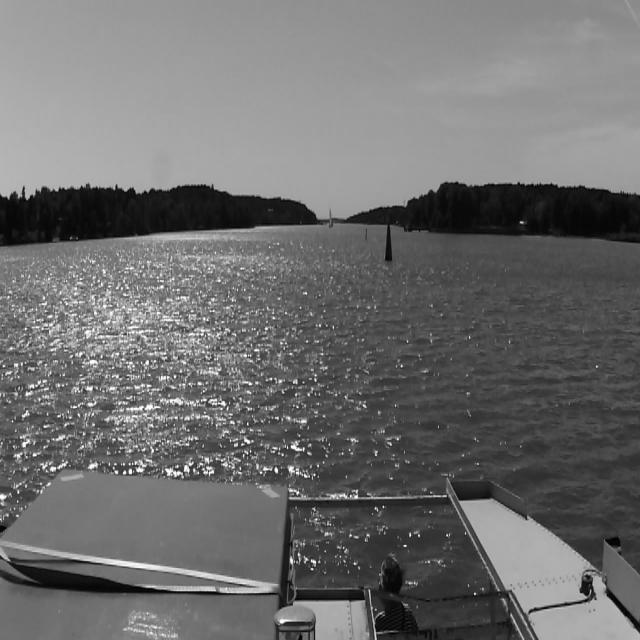buoy: (385, 219, 391, 261), (363, 225, 369, 240), (365, 227, 367, 241)
ship: (329, 207, 333, 228)
